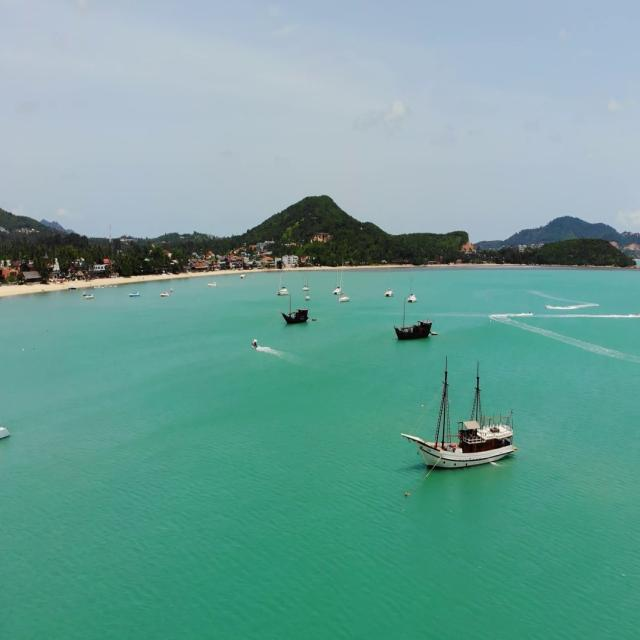fishing boat: (401, 368, 536, 469), (394, 298, 446, 342), (278, 296, 314, 340)
